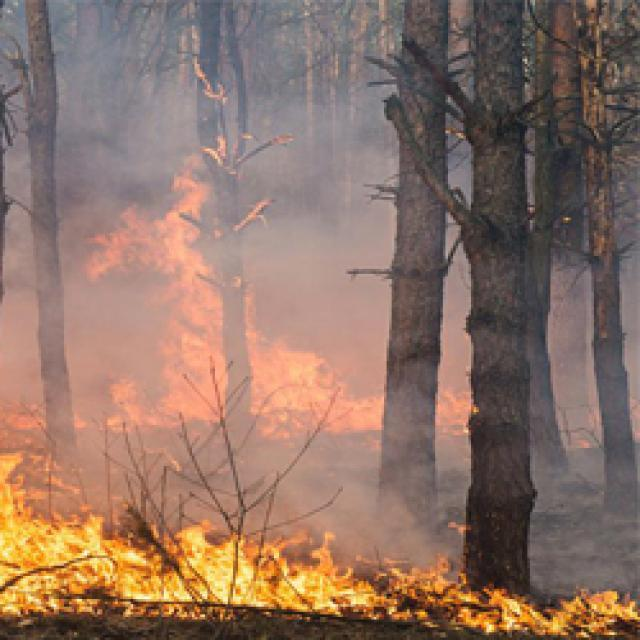Fire: (75, 34, 494, 446), (0, 434, 640, 640), (59, 66, 312, 456), (64, 362, 508, 446)
Smoke: (0, 0, 434, 568)
